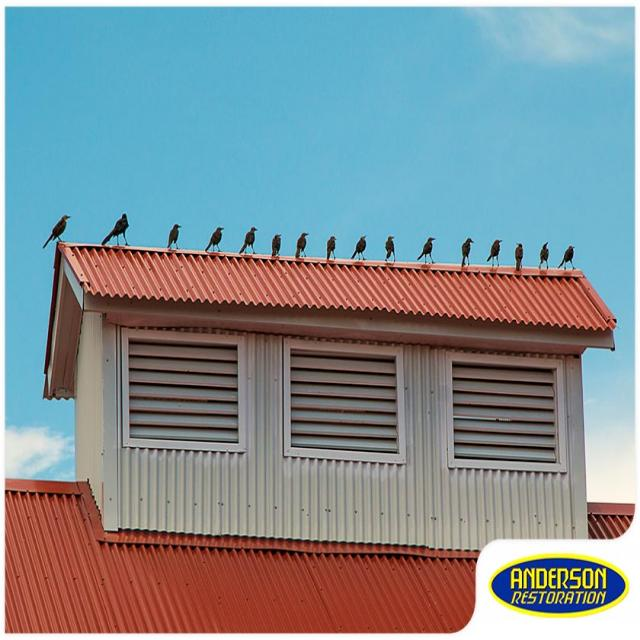bird: (42, 213, 72, 250), (101, 213, 129, 246), (416, 236, 437, 263), (238, 226, 258, 254), (204, 226, 225, 252), (558, 244, 576, 270), (166, 222, 182, 250), (350, 234, 367, 260), (486, 238, 502, 265), (460, 237, 474, 267), (295, 231, 309, 259), (538, 241, 550, 270), (384, 234, 396, 263), (270, 233, 282, 260), (514, 242, 524, 270), (326, 235, 336, 260)
